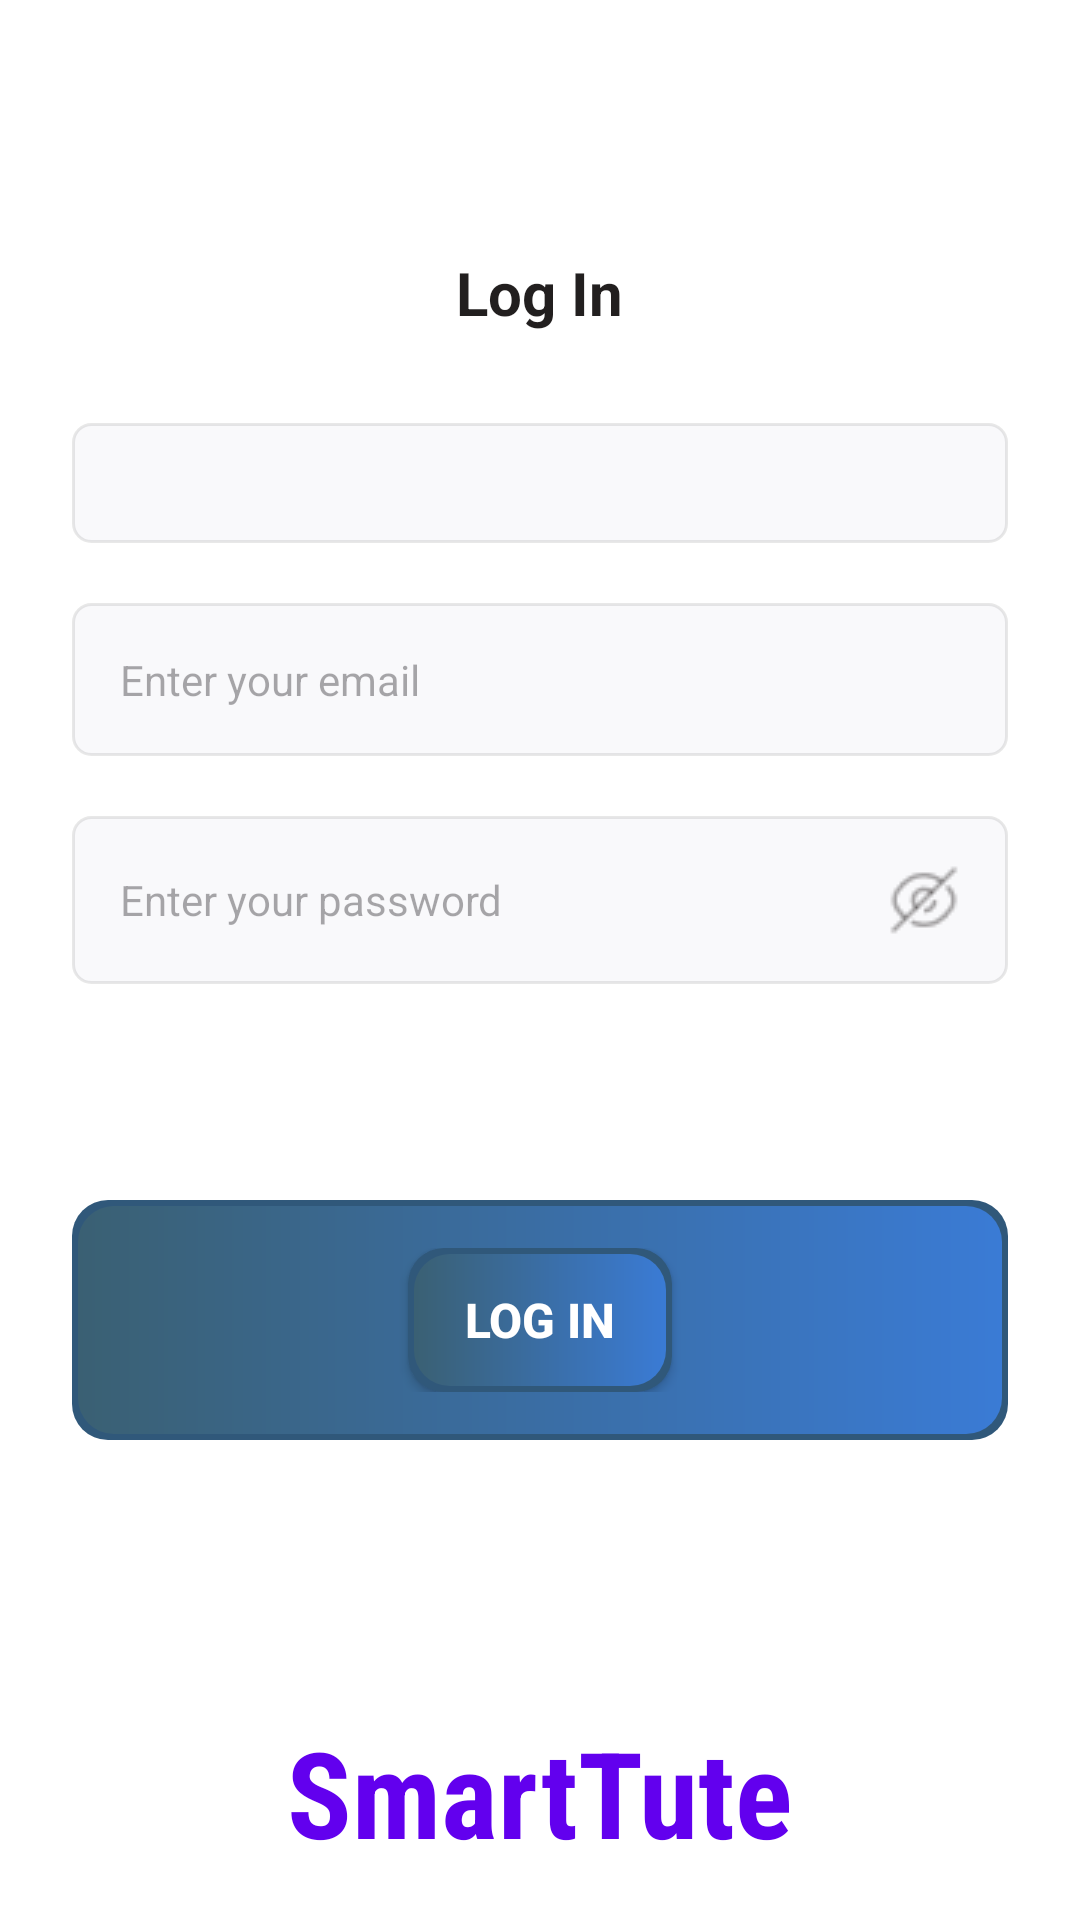

Locate icon controls on the screen. Image size 1080px x 1920px, boxes as box(x1, y1, x2, y2).
eye: box(891, 867, 957, 933)
